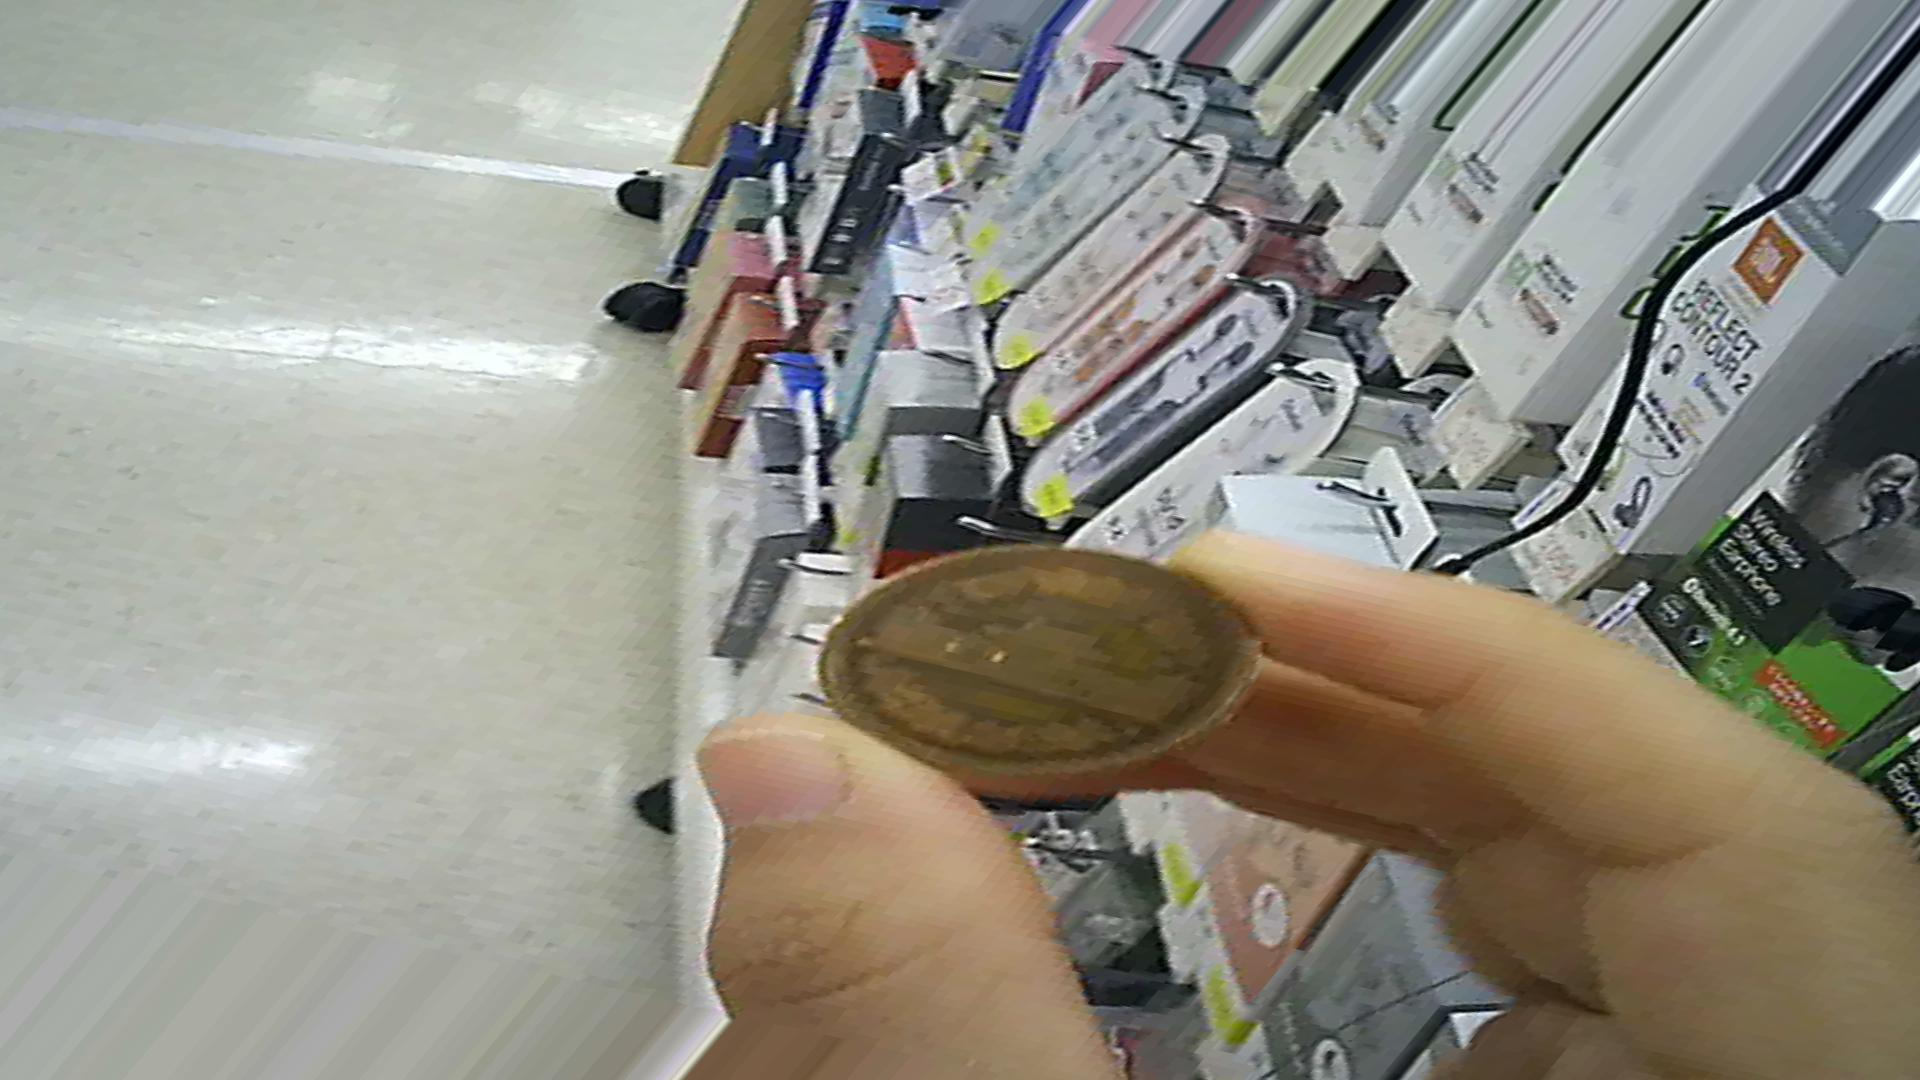10 Yen: (807, 525, 1257, 787)
